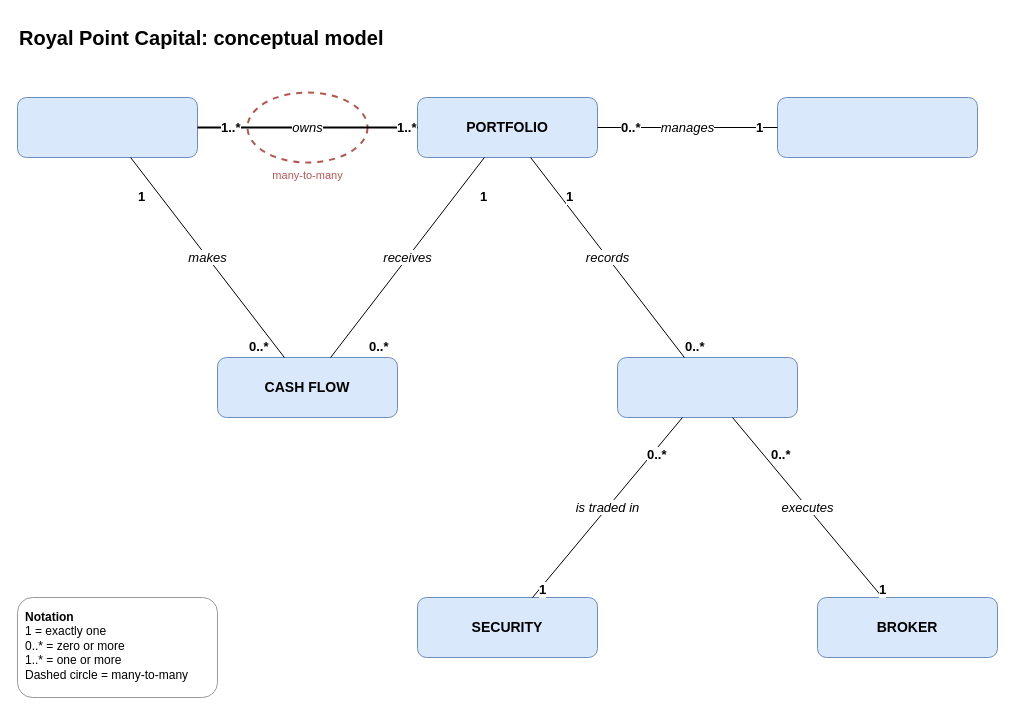
Image size: 1015x715. Some labels were removed from this diagram. Each missing label, with the centre of its shape:
"CLIENT" goes at pixel 107 127.
"PORTFOLIO MANAGER" goes at pixel 877 127.
"TRADE" goes at pixel 707 387.
